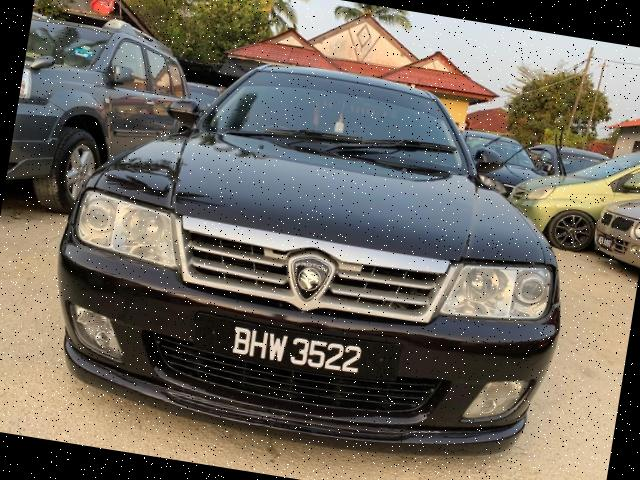License_Plate: (199, 316, 386, 384)
car: (27, 29, 597, 480)
